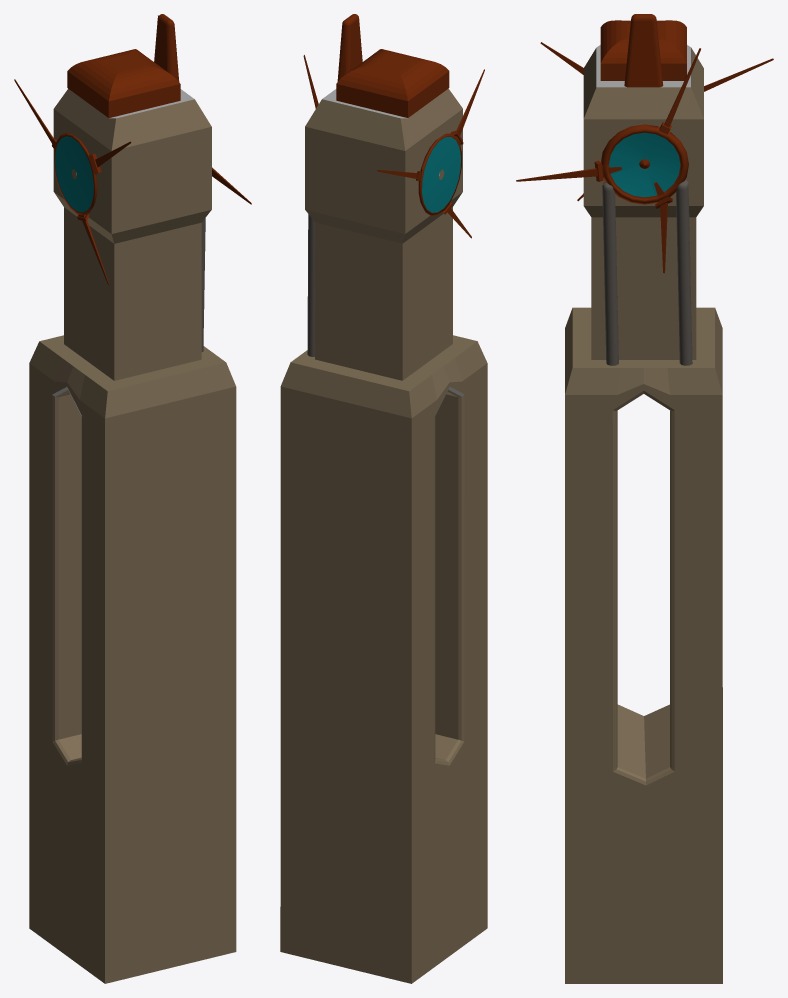
The model's file is ClockTower.fbx.
3 views of the same model, side by side, from view 1: azimuth 30°, elevation 25°; view 2: azimuth 150°, elevation 25°; view 3: azimuth 270°, elevation 25° (orthographic). The views are drawn at different scales.
Visible parts, largest first — view 1: ClockTower1; view 2: ClockTower1; view 3: ClockTower1.
Part boxes in pixels (box(x1,y1,x2,y2)): ClockTower1: box(14, 14, 251, 983); ClockTower1: box(280, 14, 487, 983); ClockTower1: box(516, 14, 773, 983).
Size of the model in its own units: 14.87 by 99.15 by 24.3.
